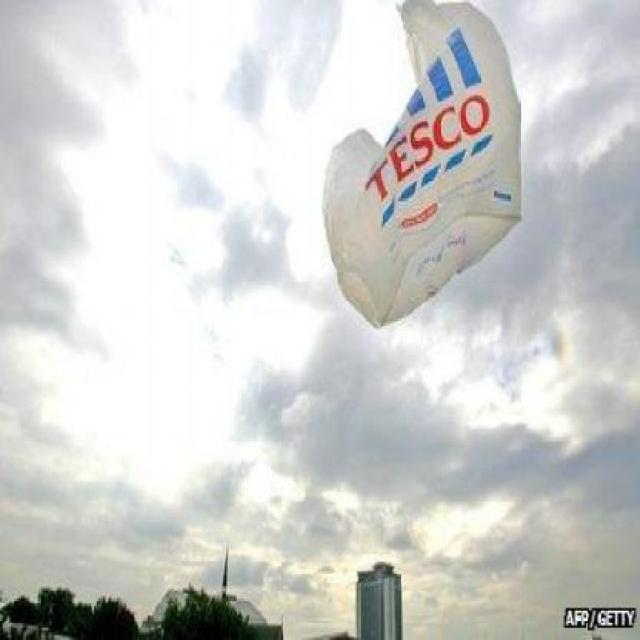plastic bag: (308, 16, 560, 342)
